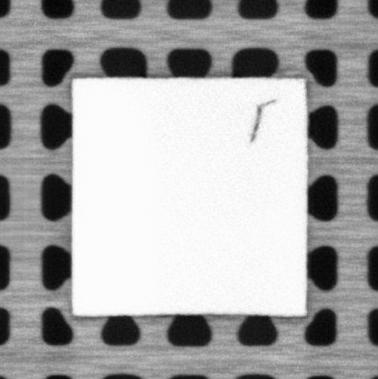DIE_INK: (248, 99, 277, 143)
